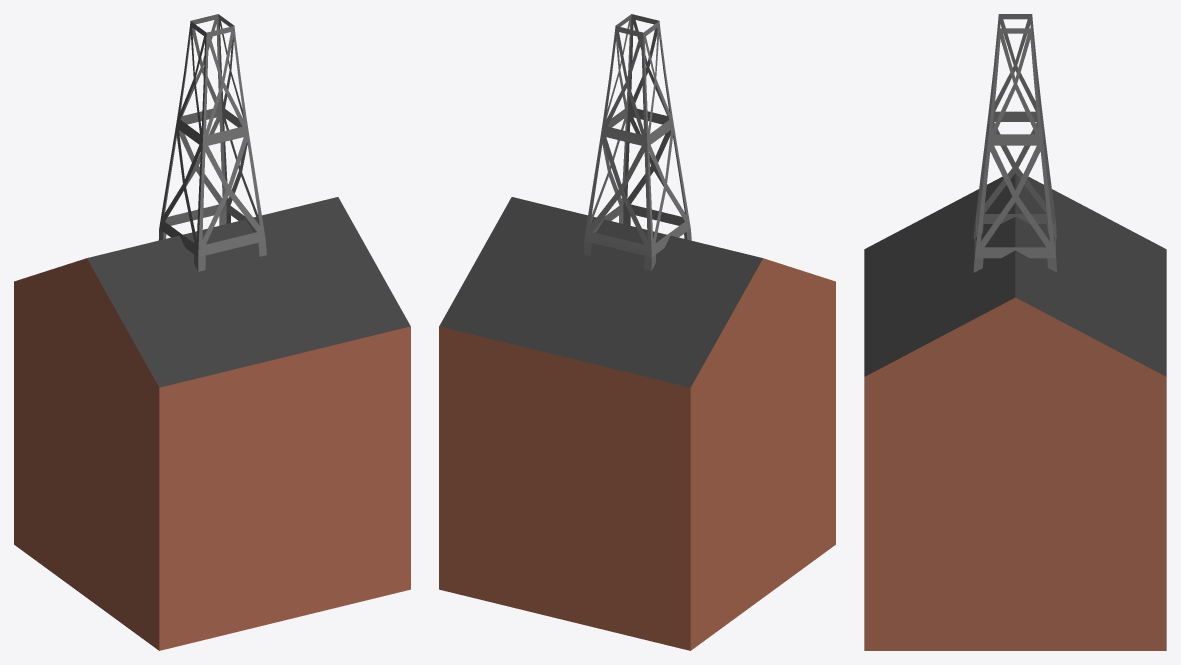
Rendered from factory_power_01.fbx.
3 renders of one model, left to right at view 1: azimuth 30°, elevation 25°; view 2: azimuth 150°, elevation 25°; view 3: azimuth 270°, elevation 25°, orthographic. The views are drawn at different scales.
Visible parts, largest first — view 1: factory_03; view 2: factory_03; view 3: factory_03.
Part boxes in pixels (bbox=[...]): factory_03: bbox=[14, 14, 410, 650]; factory_03: bbox=[439, 14, 835, 650]; factory_03: bbox=[864, 14, 1166, 650].
Bounding box in the file's own units: 400 × 827 × 400.
